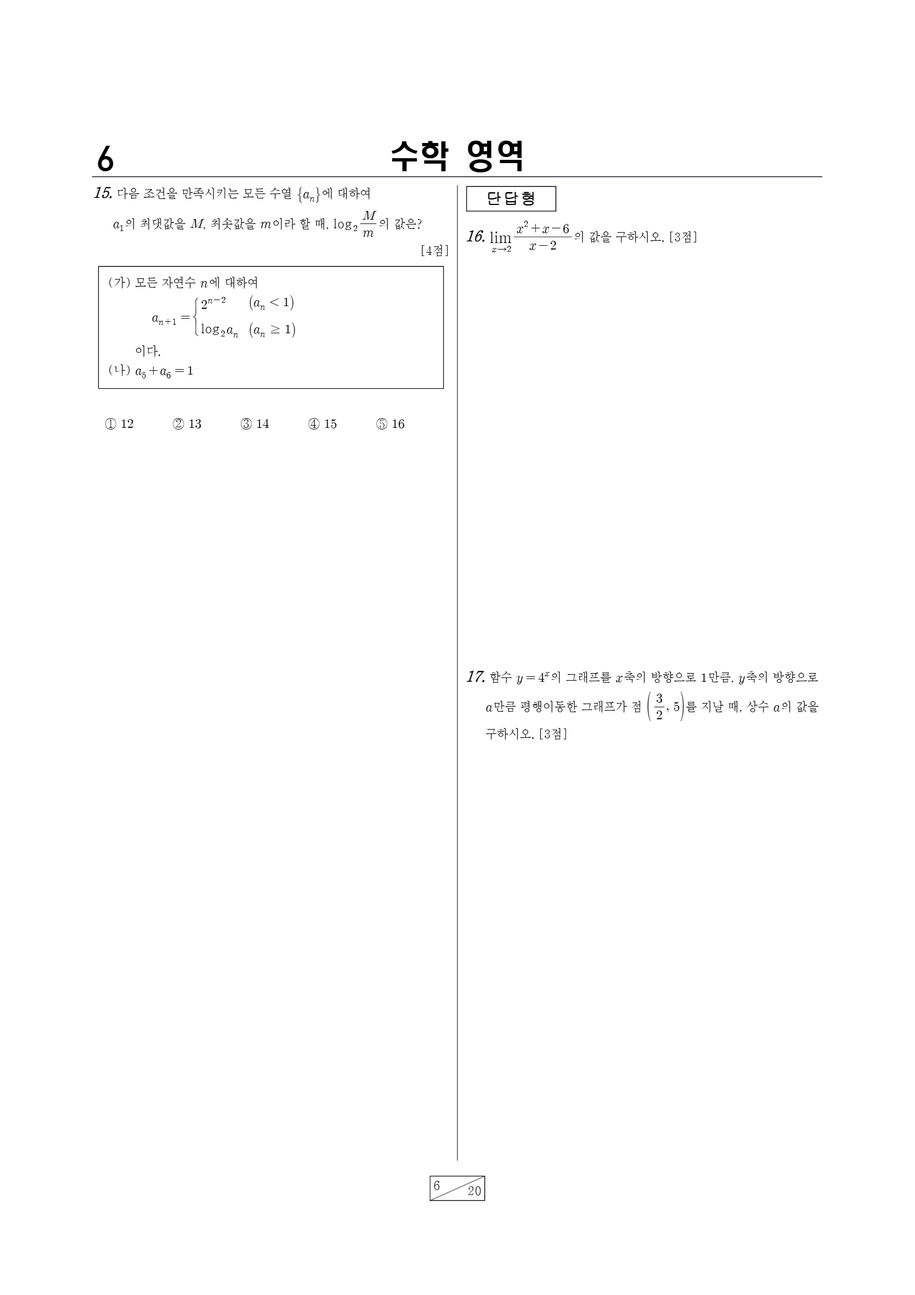opt_1: (104, 416, 118, 430)
opt_2: (172, 416, 184, 429)
opt_3: (240, 416, 252, 430)
opt_4: (308, 416, 319, 429)
opt_5: (375, 418, 387, 430)
